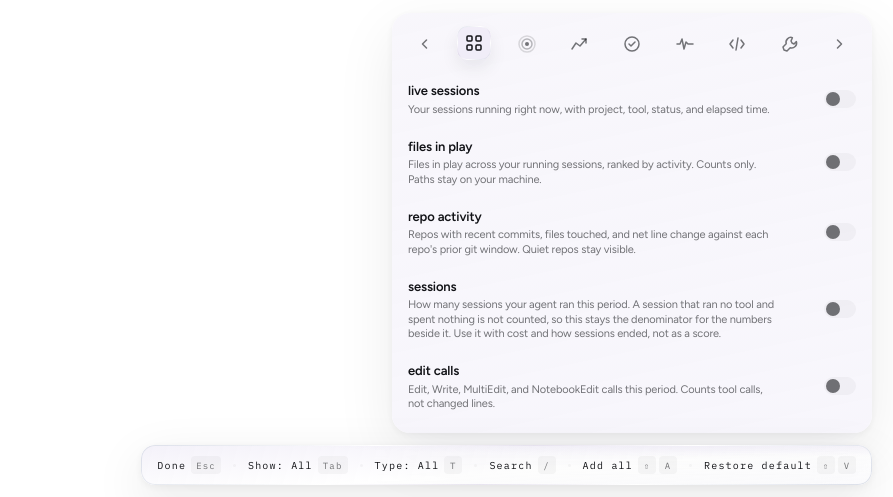
hover card › describes the hovered widget without stealing it from the reader
Hover over the element that starts with "live sessions" at (444, 90), box 408,83 -> 856,116
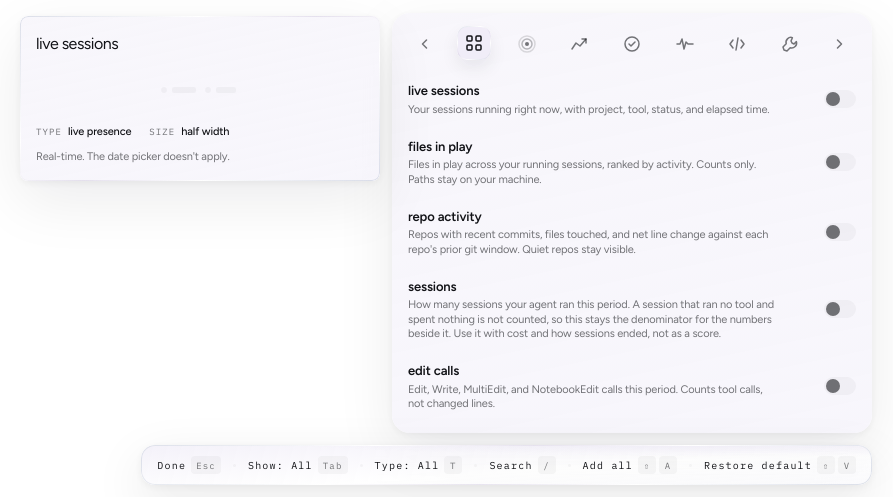
Check: the text "live sessions" is shown, box 36,34 -> 118,53
Check: the text "live presence" is shown, box 68,125 -> 131,138
Check: the text "half width" is shown, box 181,125 -> 229,138
